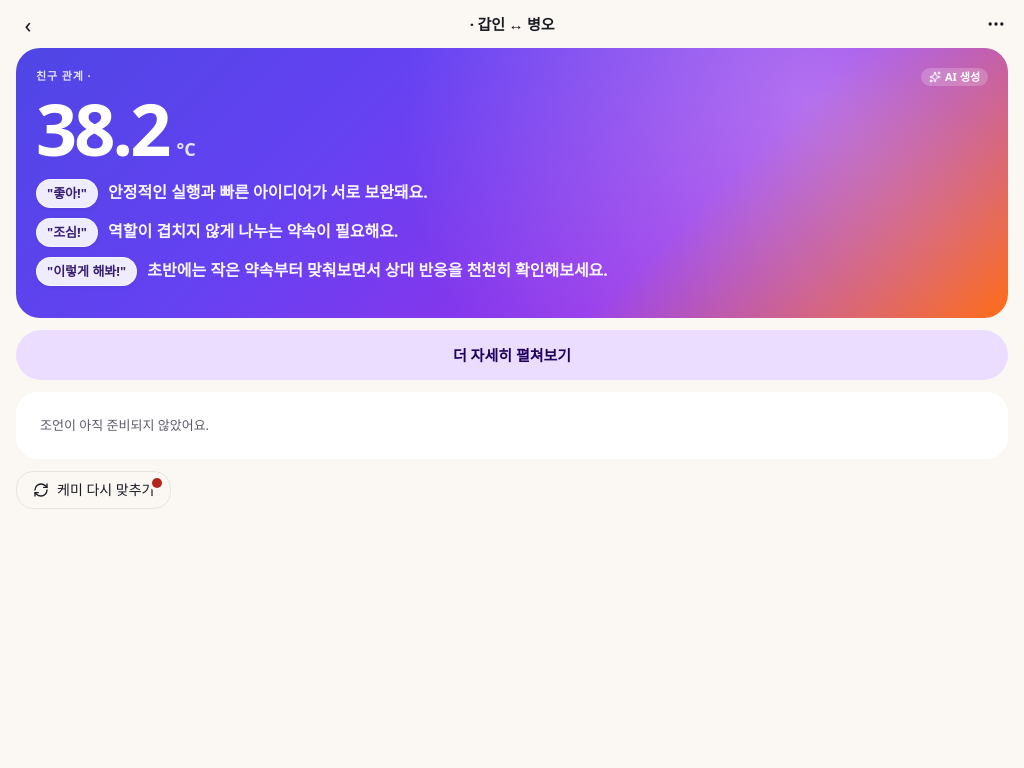
Test: HapcardPage › expands the detail panel inline instead of opening a popup
Click the button "더 자세히 펼쳐보기".
click(512, 355)  # box [16,330,1008,380]
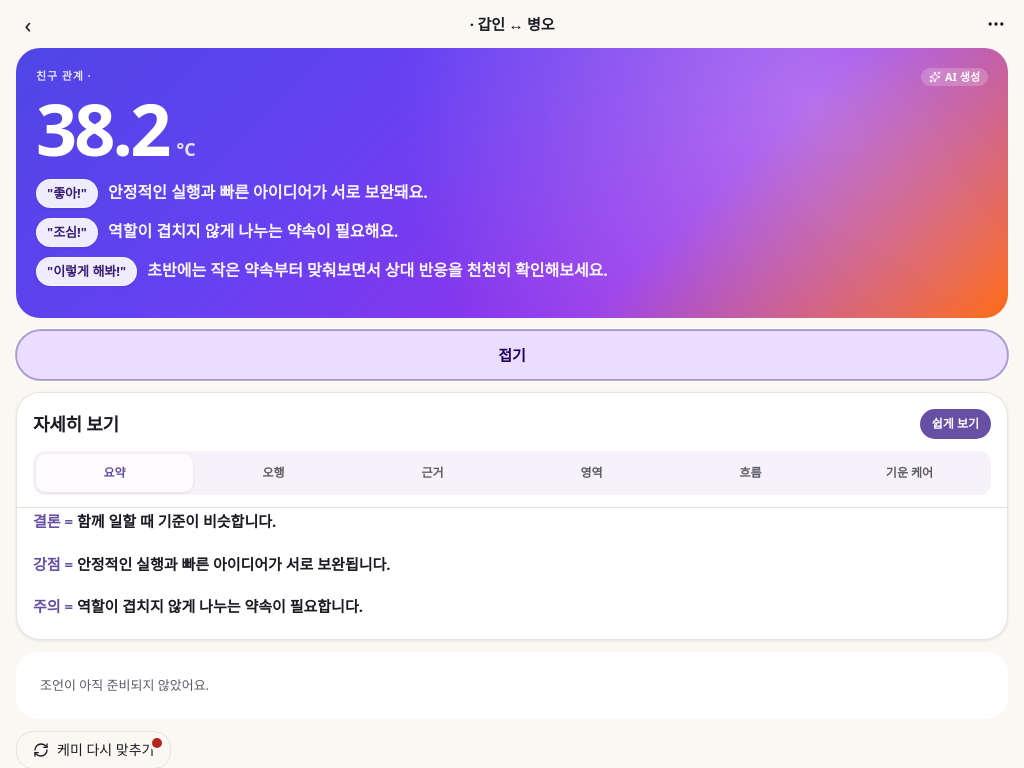
Now the element with test id "hapcard-expand-panel" is shown, box [16,392,1008,640]
Now the button "접기" is expanded
Now the element with test id "hapcard-expand-summary-line-conclusion" reads "결론 = 함께 일할 때 기준이 비슷합니다.", box [33,511,276,531]
Click the button "접기".
click(512, 355)  # box [16,330,1008,380]
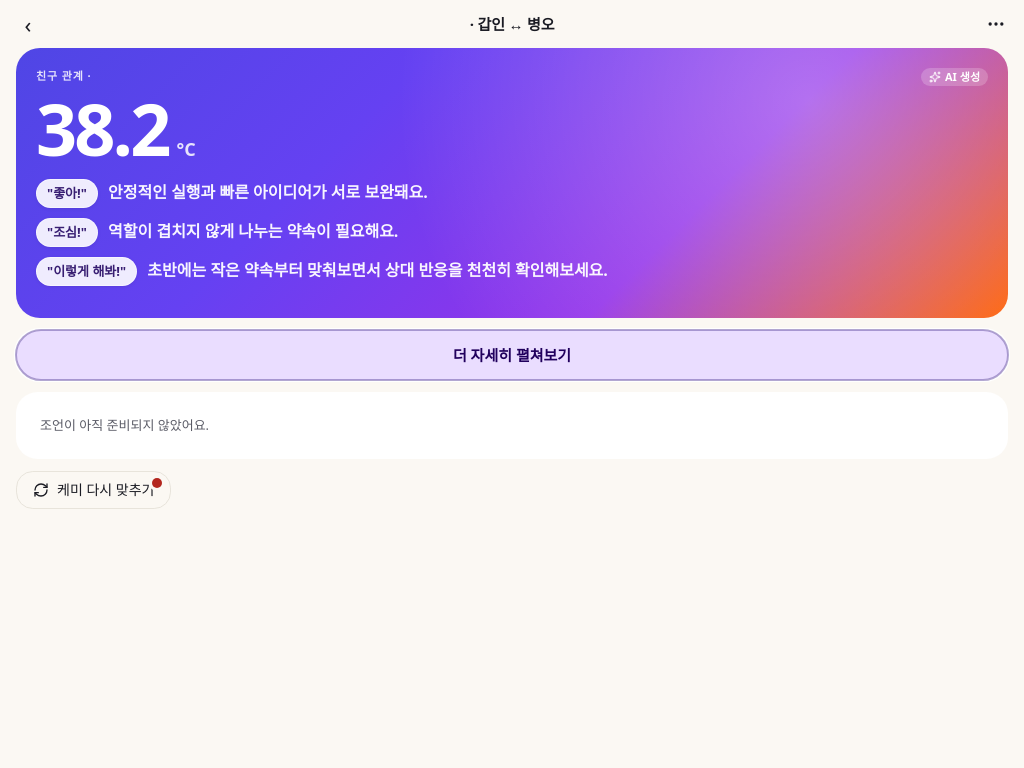
Now the element with test id "hapcard-expand-panel" is gone
